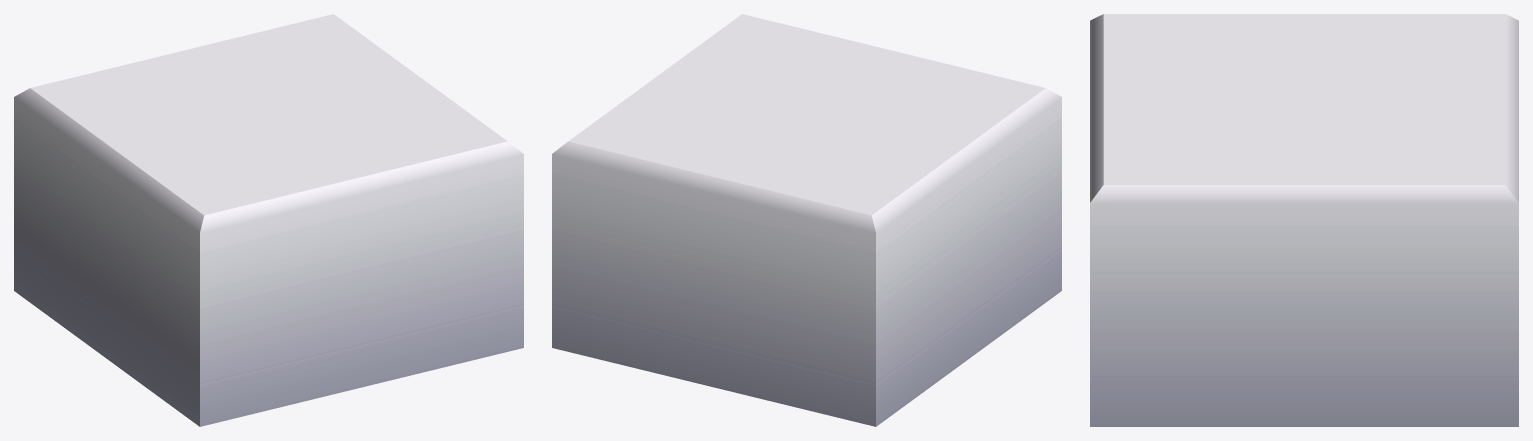
File: none-hq-brick-2x2.glb
3 views of the same model, side by side, from view 1: azimuth 30°, elevation 25°; view 2: azimuth 150°, elevation 25°; view 3: azimuth 270°, elevation 25° (orthographic). The views are drawn at different scales.
Visible parts, largest first — view 1: none-hq-brick-2x2; view 2: none-hq-brick-2x2; view 3: none-hq-brick-2x2.
Part boxes in pixels (box(x1,y1,x2,y2)): none-hq-brick-2x2: box(14, 14, 523, 426); none-hq-brick-2x2: box(552, 14, 1061, 426); none-hq-brick-2x2: box(1090, 14, 1518, 426).
Size of the model in its own units: 0.159 by 0.096 by 0.158.
1 material, 1 textured.
